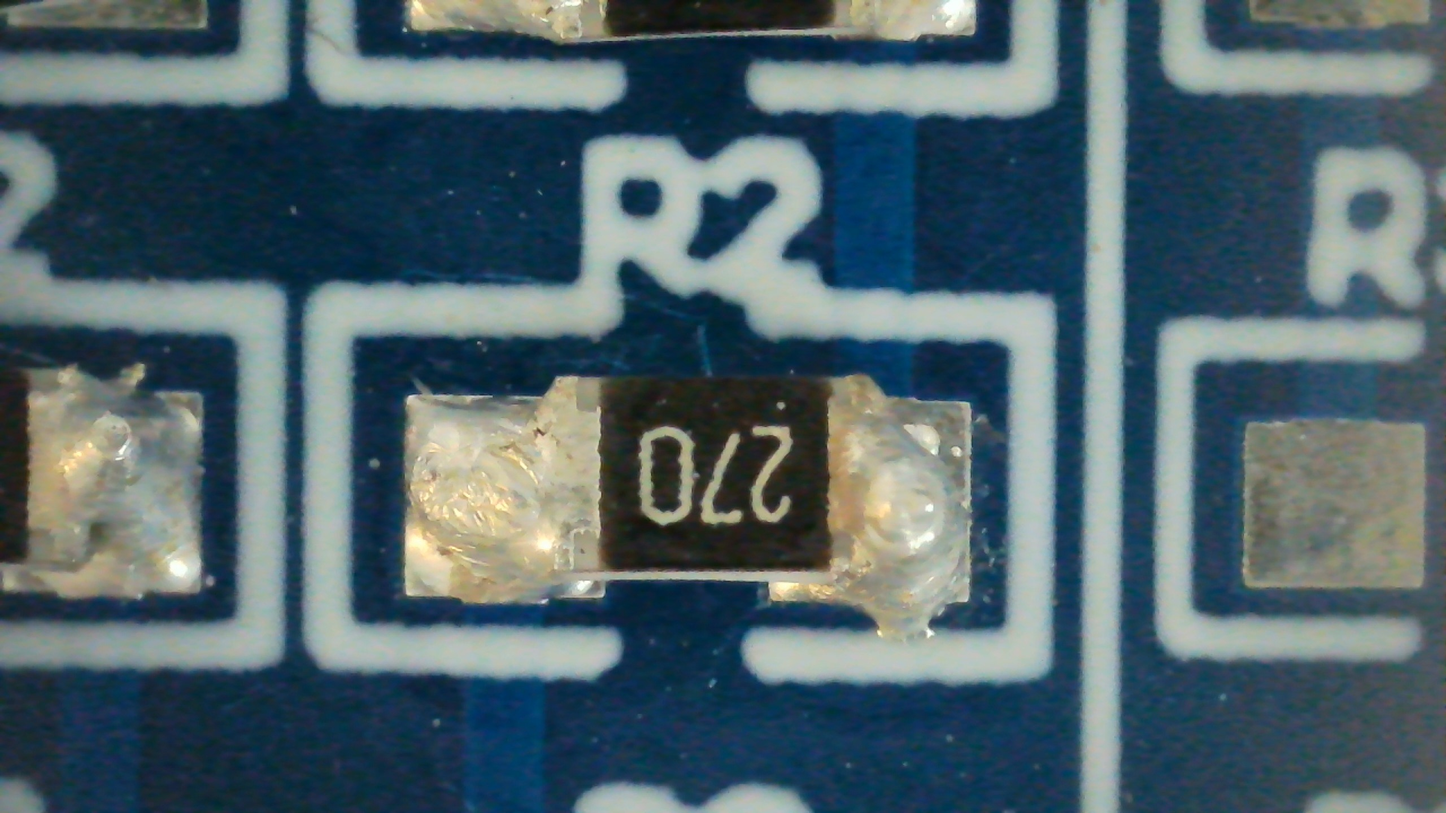NG: (404, 374, 970, 640)
